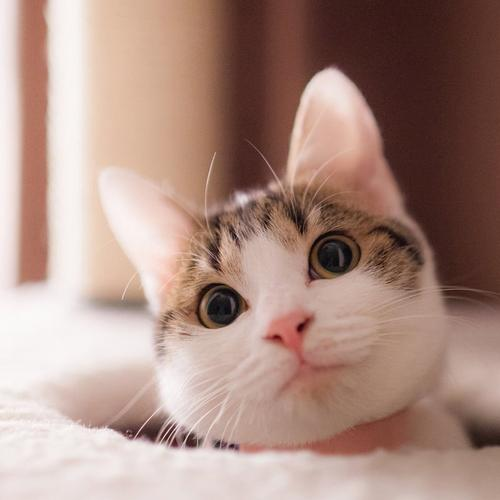cat: (100, 71, 460, 447)
